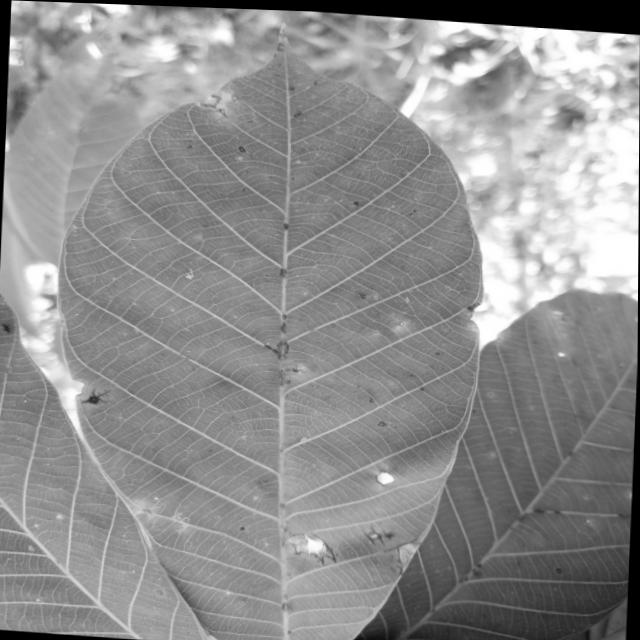Colletotrichum: (238, 144, 245, 150), (556, 563, 562, 569), (360, 291, 365, 297), (283, 312, 287, 317), (400, 319, 404, 323)
Corynespora: (383, 531, 420, 551), (363, 522, 396, 544), (83, 386, 114, 406)
Leaf-Blight: (283, 529, 334, 557), (397, 536, 421, 571), (204, 92, 220, 106)
